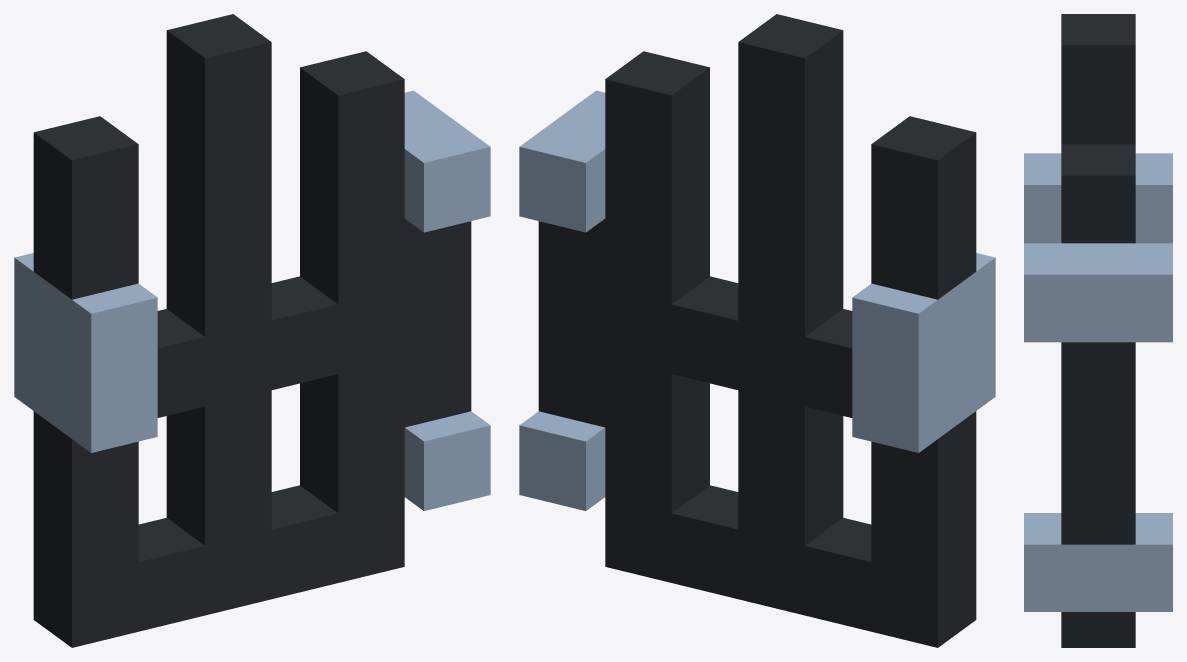
The model's file is iron-gate.obj.
The picture shows the model from 3 angles, left to right: view 1: azimuth 30°, elevation 25°; view 2: azimuth 150°, elevation 25°; view 3: azimuth 270°, elevation 25°; orthographic projection. The views are drawn at different scales.
Size of the model in its own units: 6 by 8 by 2.
1 material, 1 textured.
